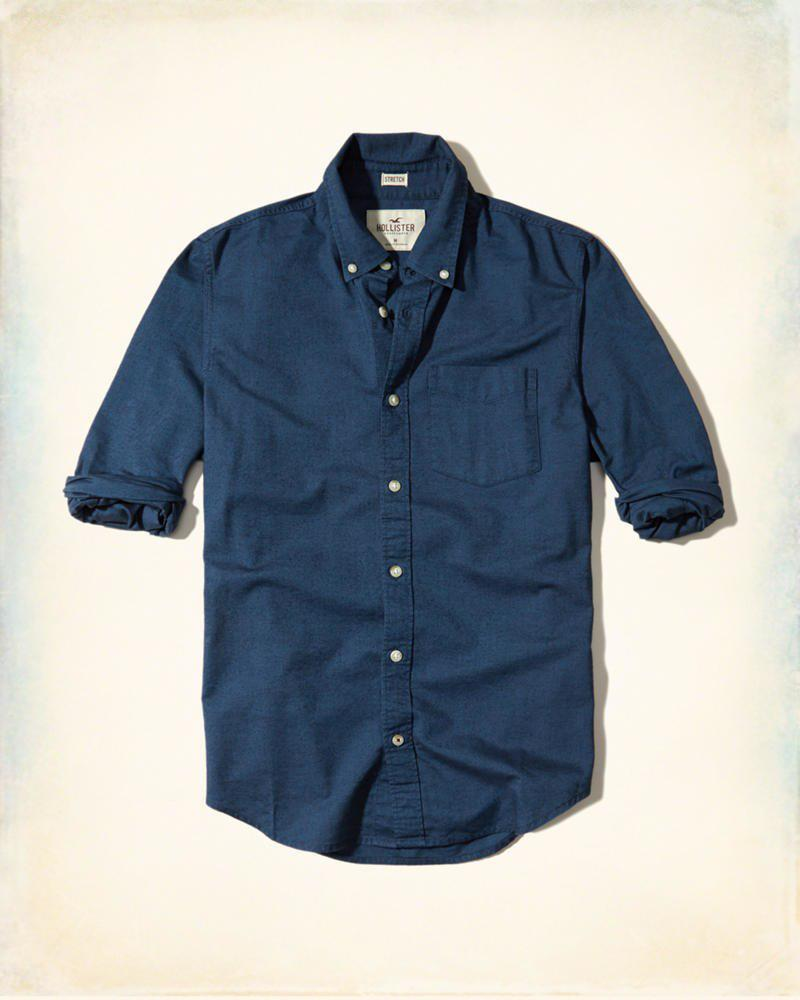teeshirt: (39, 127, 741, 866)
